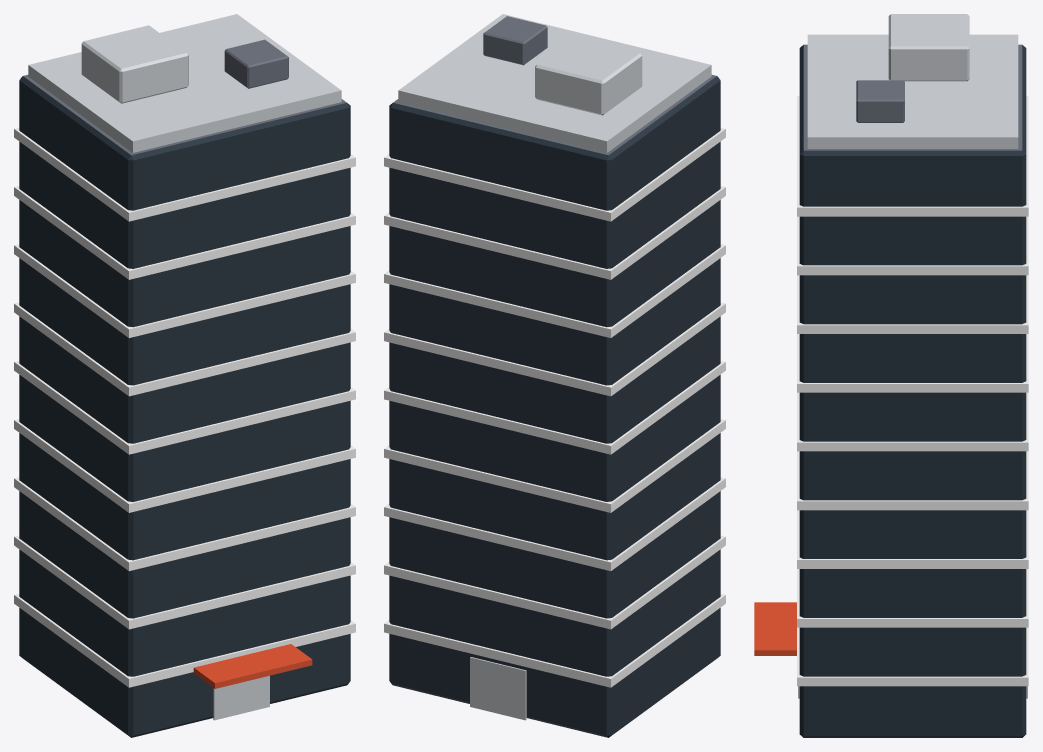
File: d_office_a.fbx
3 renders of one model, left to right at view 1: azimuth 30°, elevation 25°; view 2: azimuth 150°, elevation 25°; view 3: azimuth 270°, elevation 25°, orthographic.
Parts seen in each view (by area): view 1: d_office_a; view 2: d_office_a; view 3: d_office_a.
Boxes of the visible parts, left/top/right/bottom form: d_office_a: left=14, top=14, right=355, bottom=737; d_office_a: left=384, top=14, right=725, bottom=737; d_office_a: left=754, top=14, right=1028, bottom=737.
Bounding box in the file's own units: 16.3 × 43.2 × 16.95.
